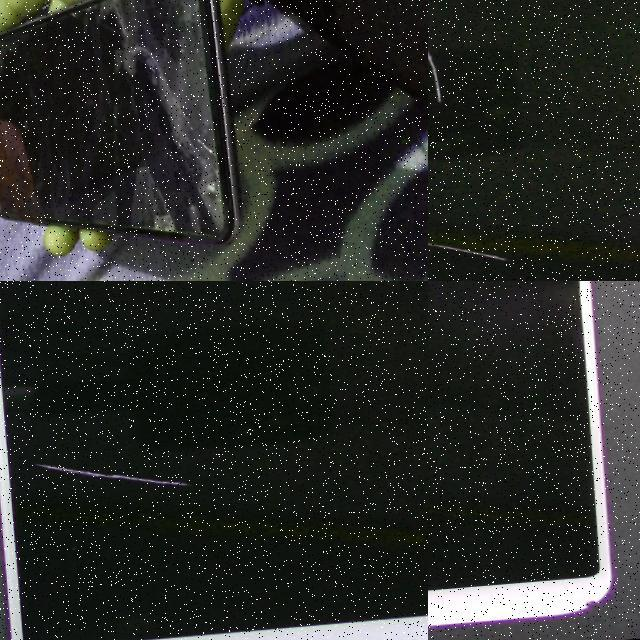scratch: (26, 453, 188, 500), (428, 226, 524, 281), (428, 4, 463, 119)
screen crack: (110, 45, 226, 263)
